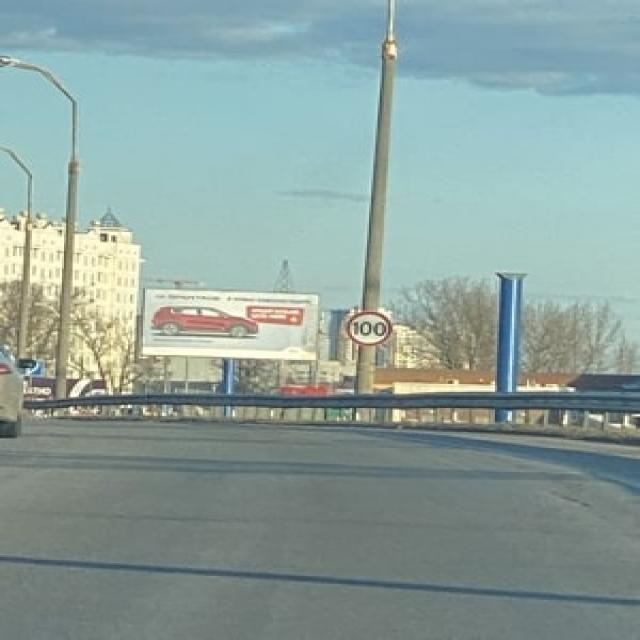Speed Limit -100-: (351, 321, 387, 337)
